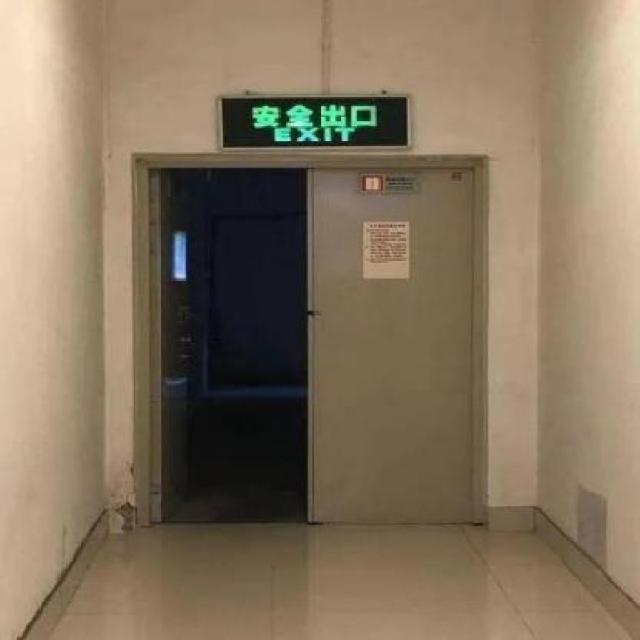exit_sign: (211, 94, 408, 150)
